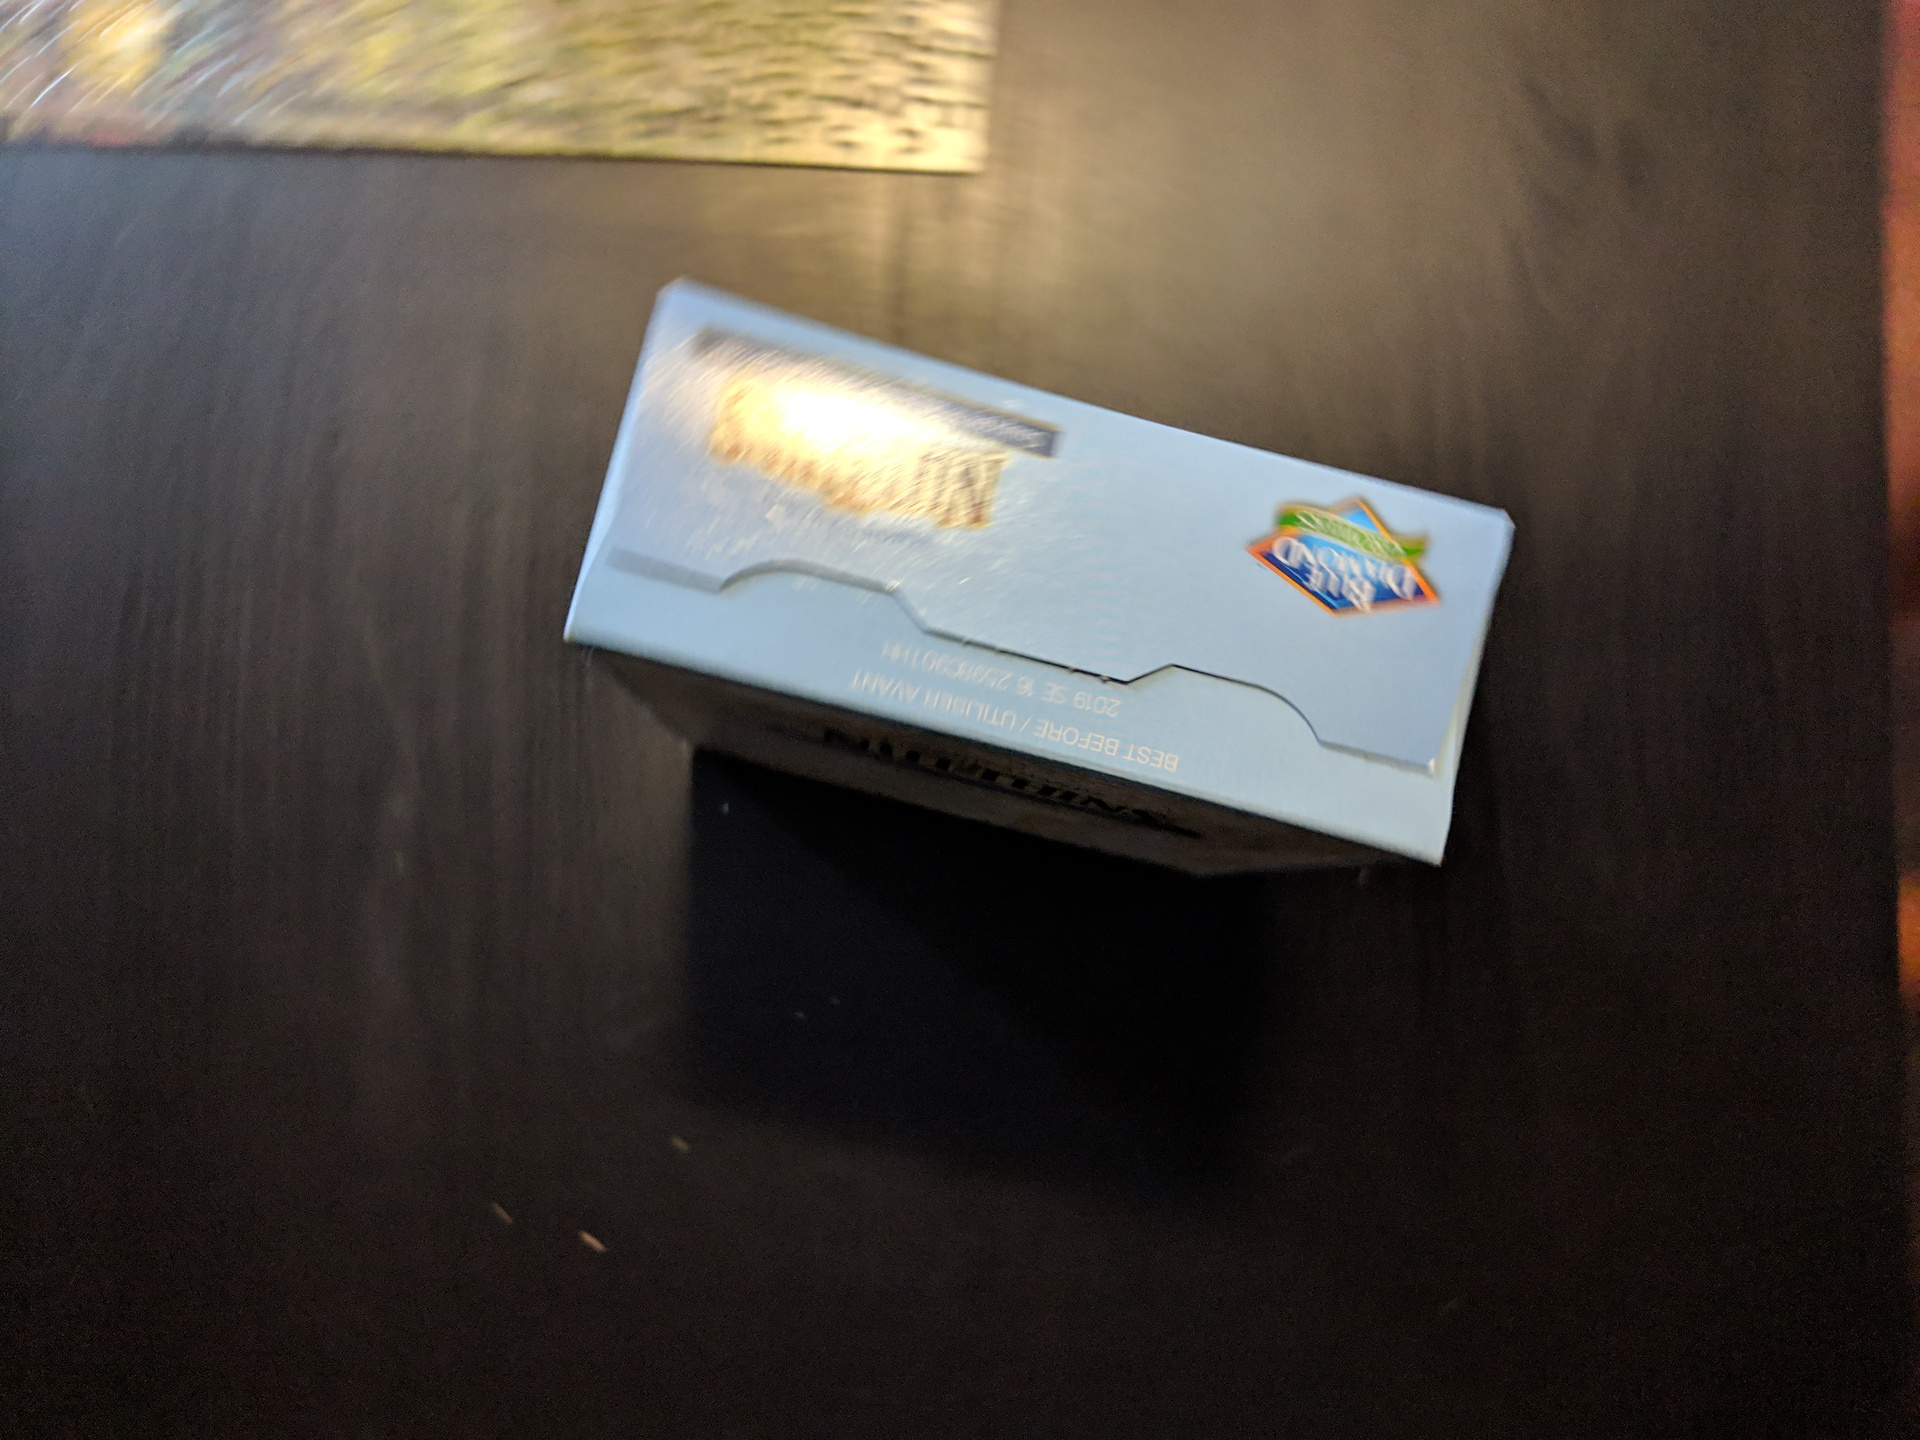blue_diamond_nut_thins_almond_seasalt: (602, 287, 1454, 858)
